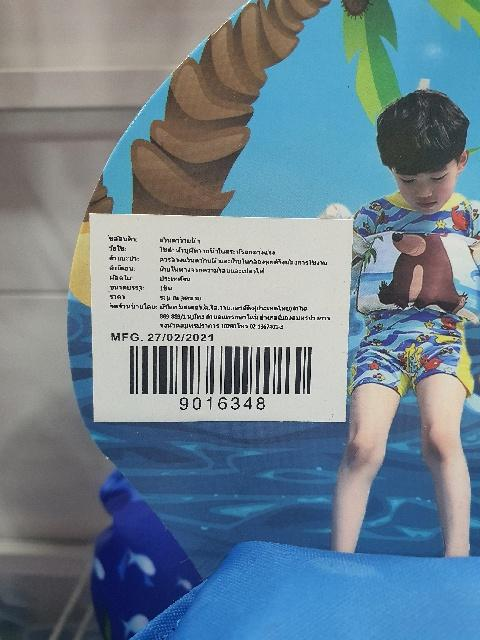Barcode: (110, 341, 331, 413)
